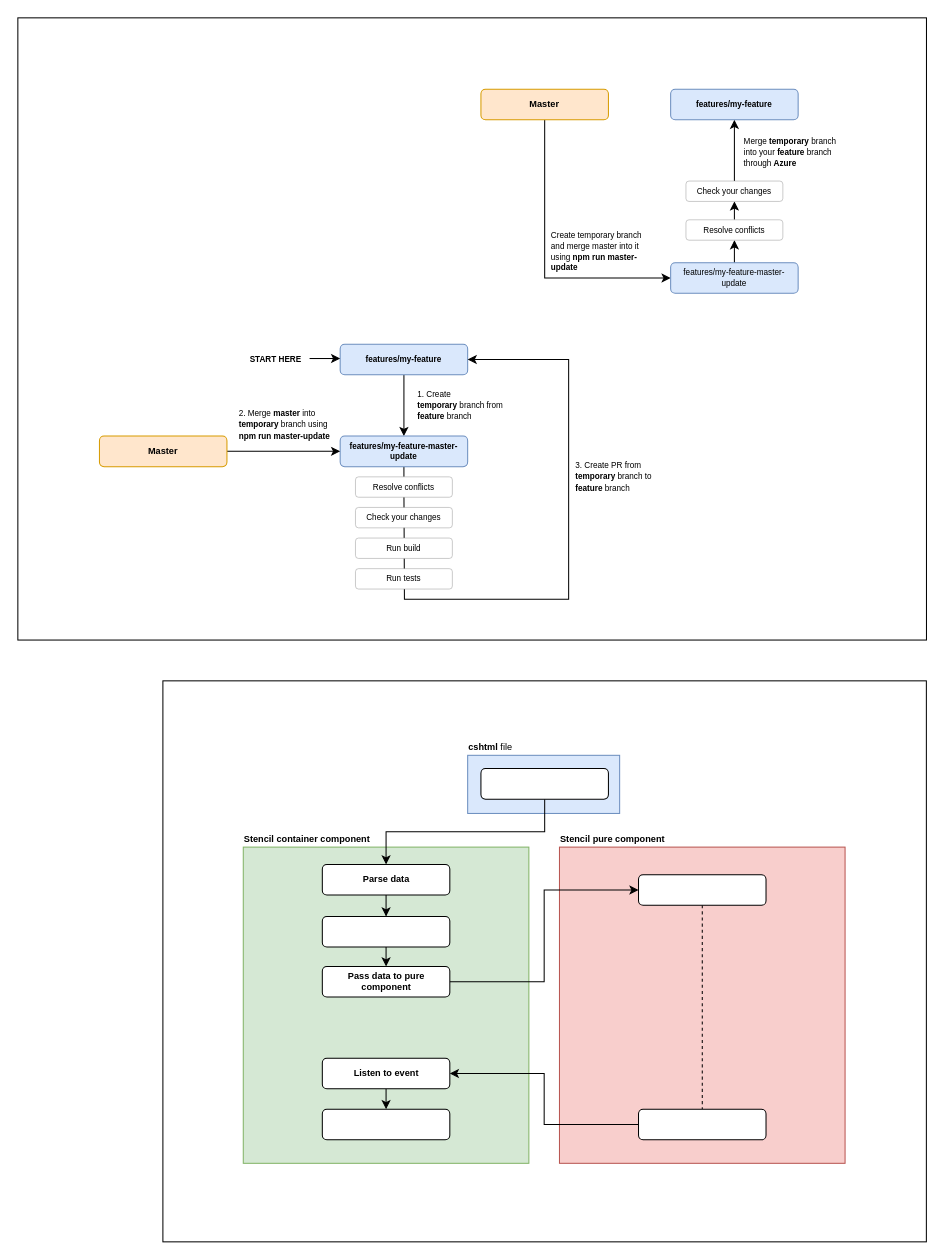
This 945x1260 diagram has some shape labels left out. The centre of each missing label's shape, as x and y in pixels:
"Call Controller" belongs at [385,1124].
"Emit event" belongs at [702,1124].
"Get data from Controller" belongs at [385,931].
"Pass data to container component" belongs at [544,783].
"Render UI" belongs at [702,889].
